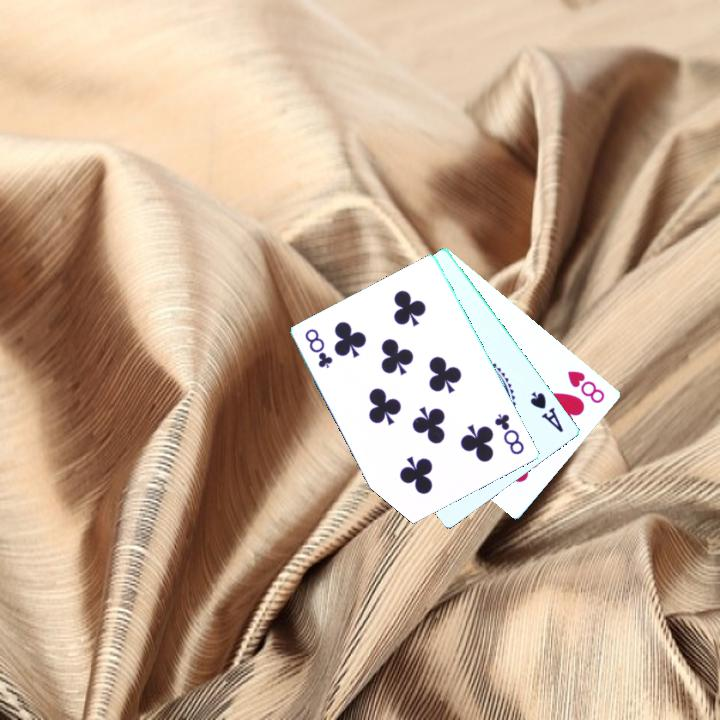8c: (491, 410, 528, 458), (301, 325, 336, 371)
8h: (564, 367, 608, 406)
As: (527, 389, 567, 435)
